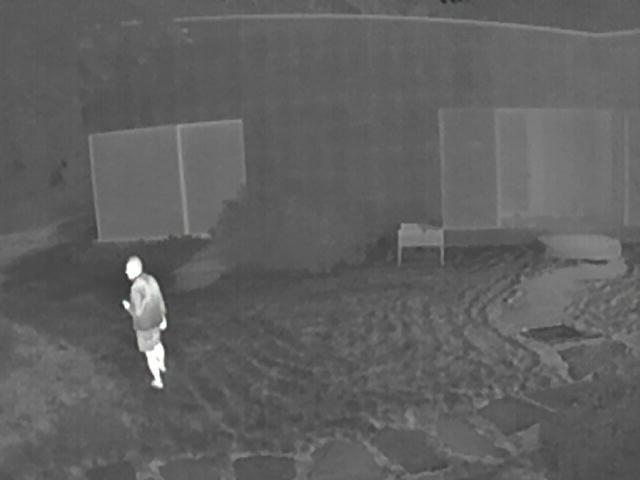person: (124, 256, 168, 389)
